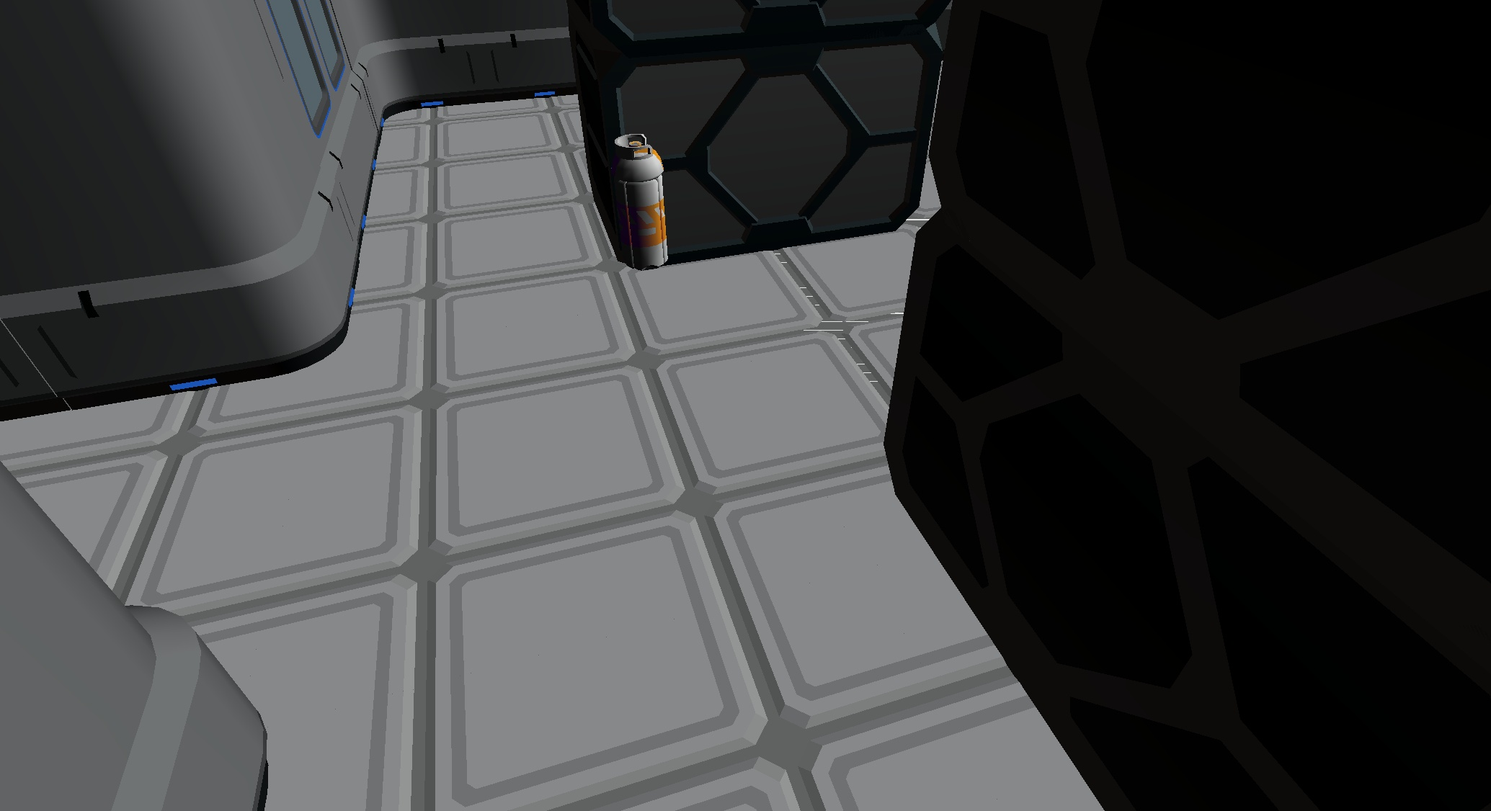yellow_barrel: (611, 134, 667, 269)
